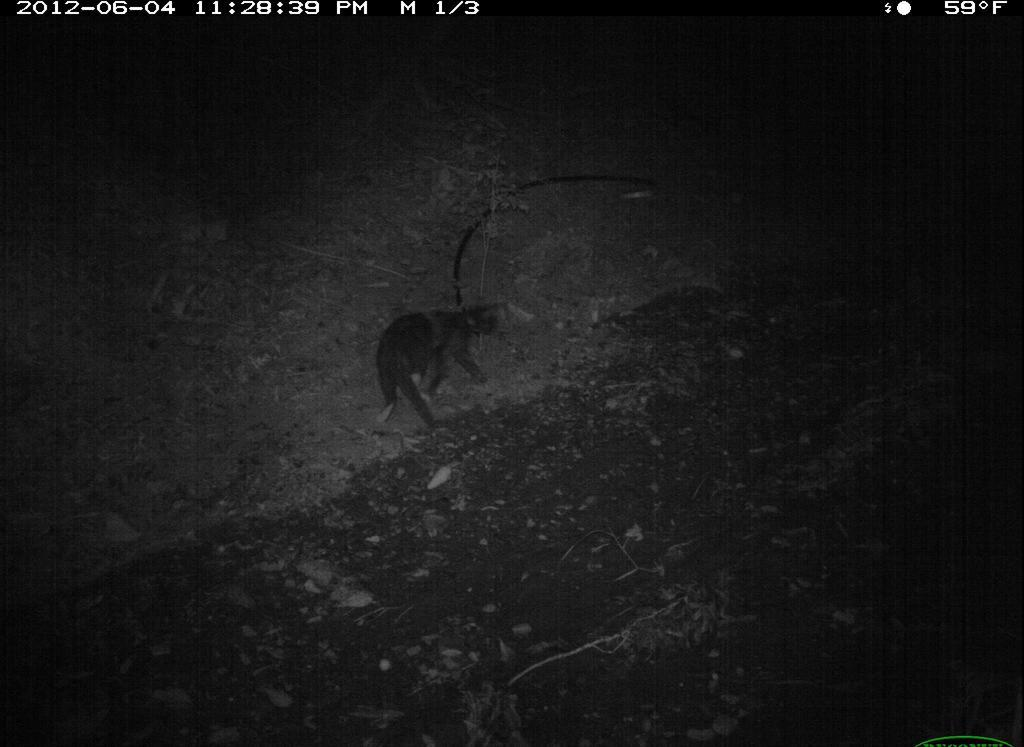cat: (365, 294, 516, 440)
